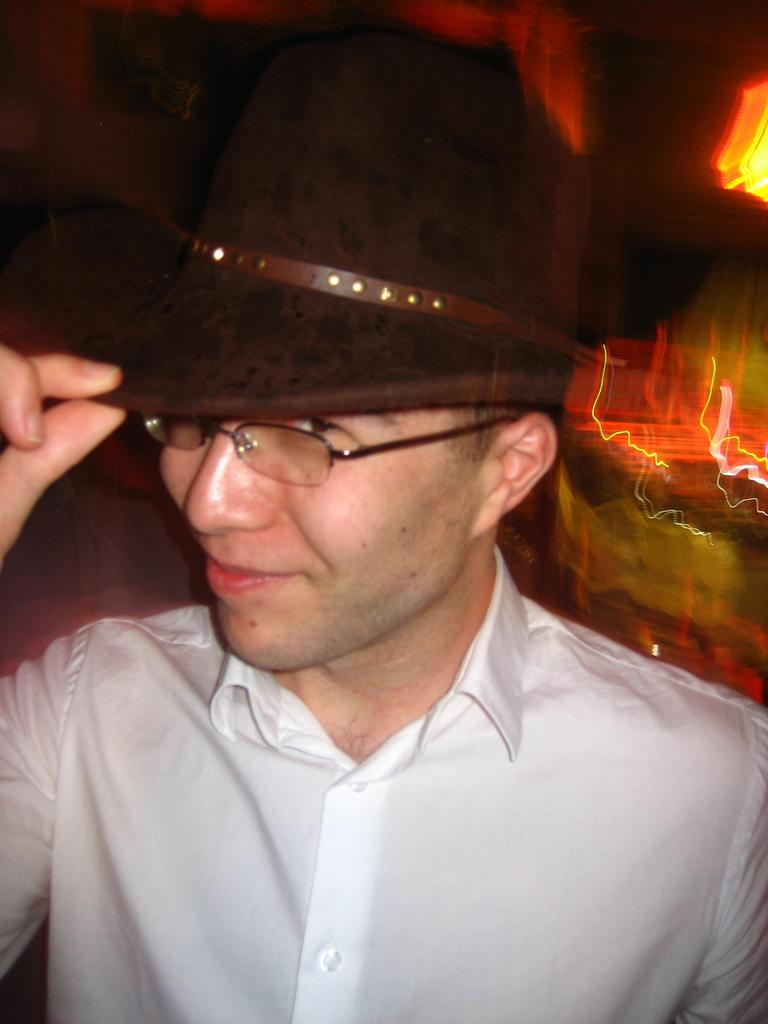Hat: (63, 52, 586, 419)
